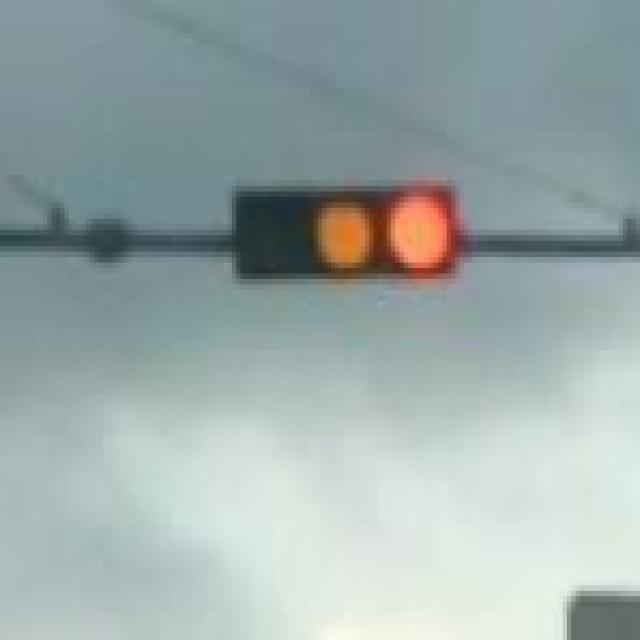yellow_light: (142, 235, 228, 520)
